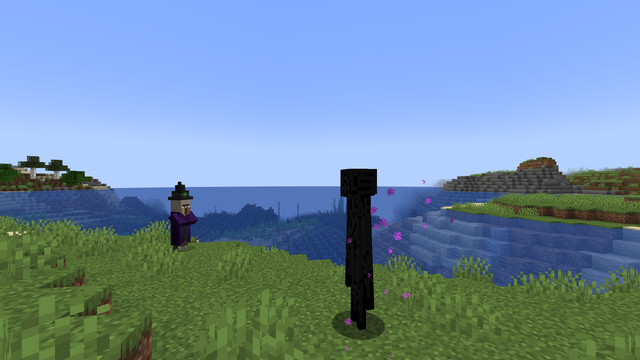endermens: (338, 163, 380, 334)
sorcieres: (168, 197, 190, 251)
